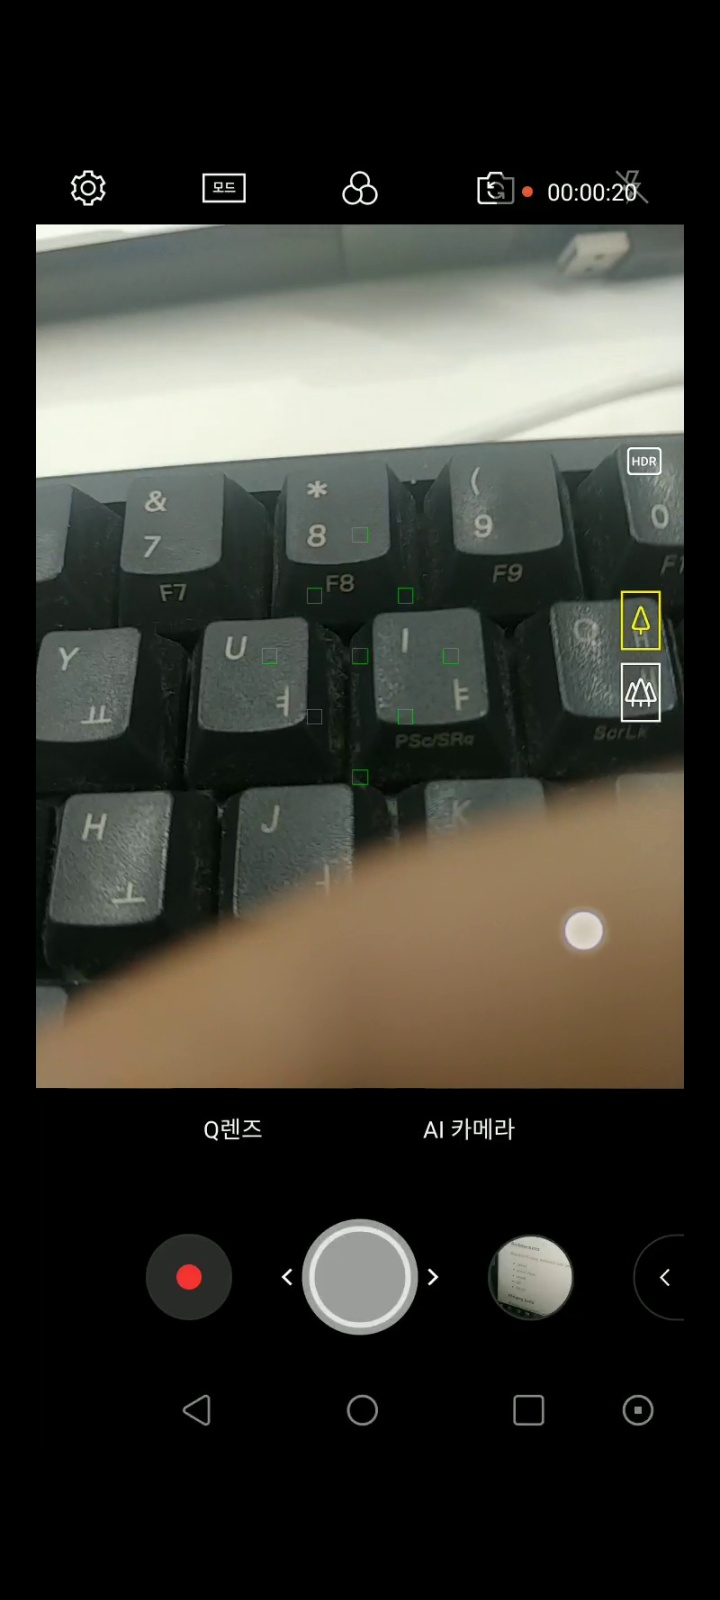Cursor: (561, 908, 606, 953)
